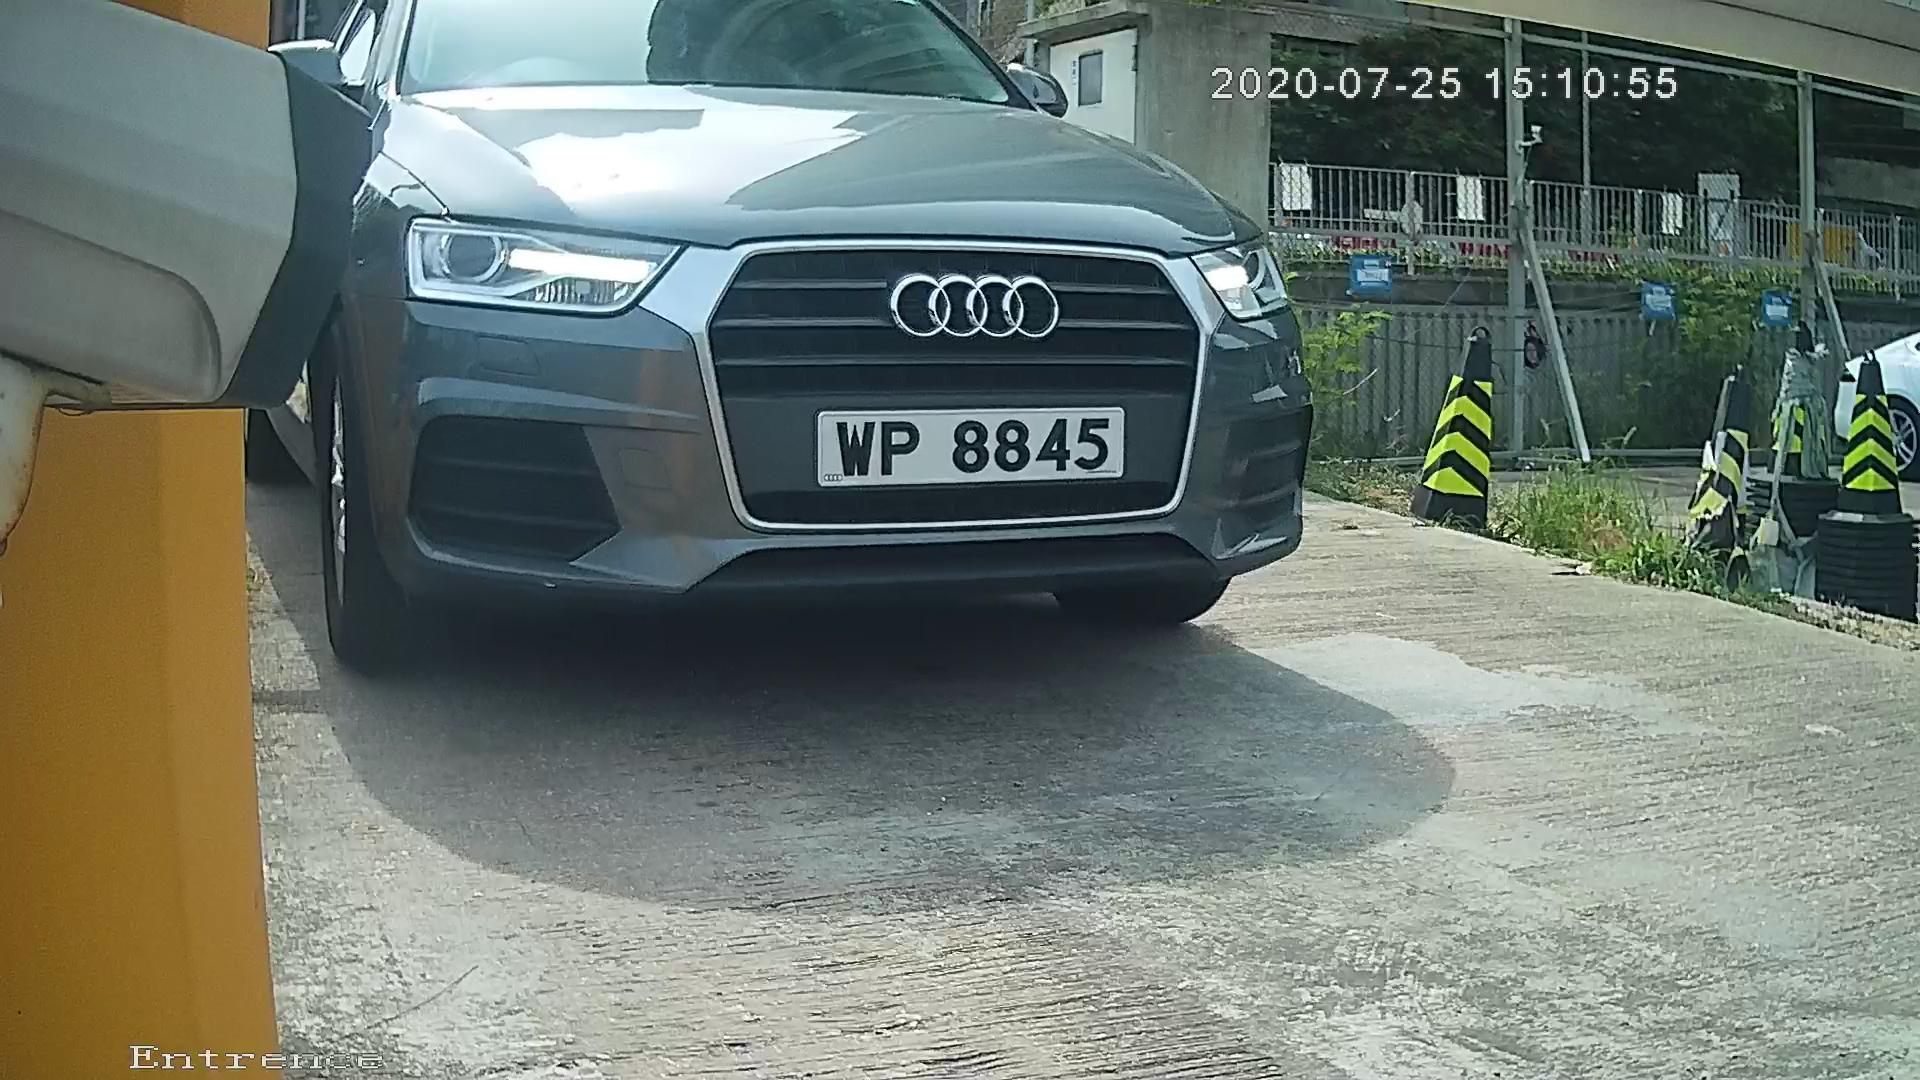Car: (121, 1, 1381, 709)
License Plate: (781, 391, 1149, 502)
